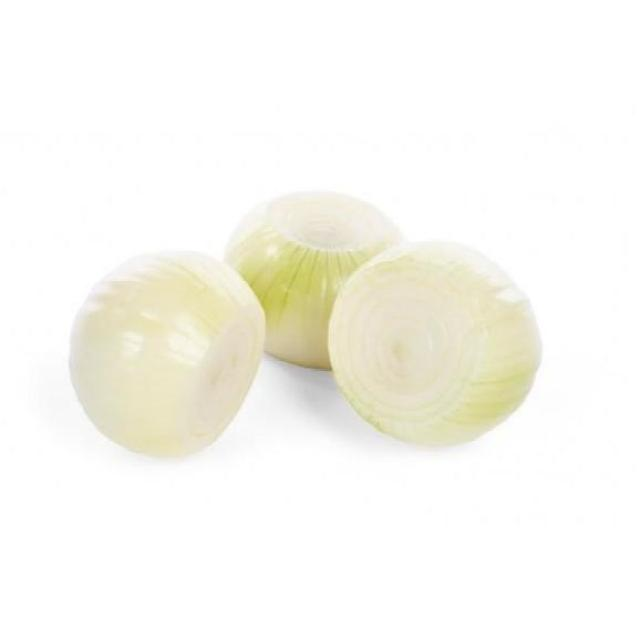Onion: (326, 240, 544, 448), (69, 249, 268, 461), (224, 190, 410, 369)
